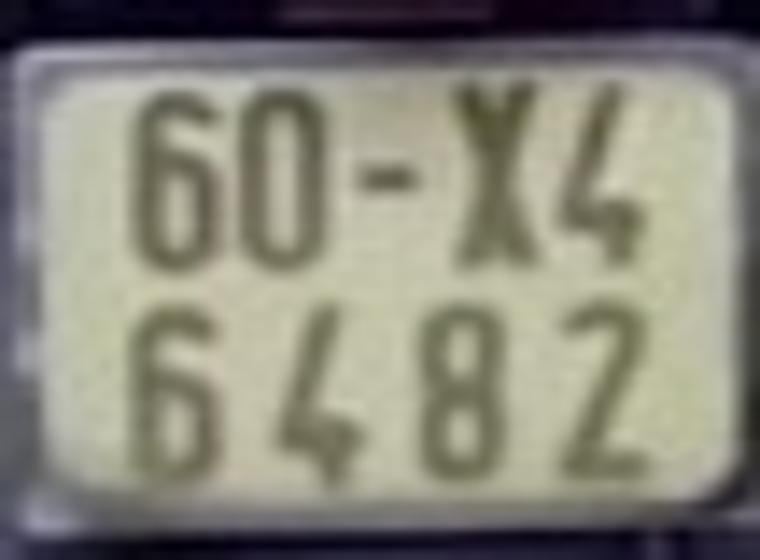-: (352, 160, 424, 204)
0: (237, 89, 337, 276)
2: (562, 296, 653, 484)
4: (283, 295, 373, 496), (568, 85, 655, 271)
6: (126, 306, 242, 488), (137, 88, 232, 276)
8: (411, 296, 510, 487)
X: (438, 74, 558, 269)
